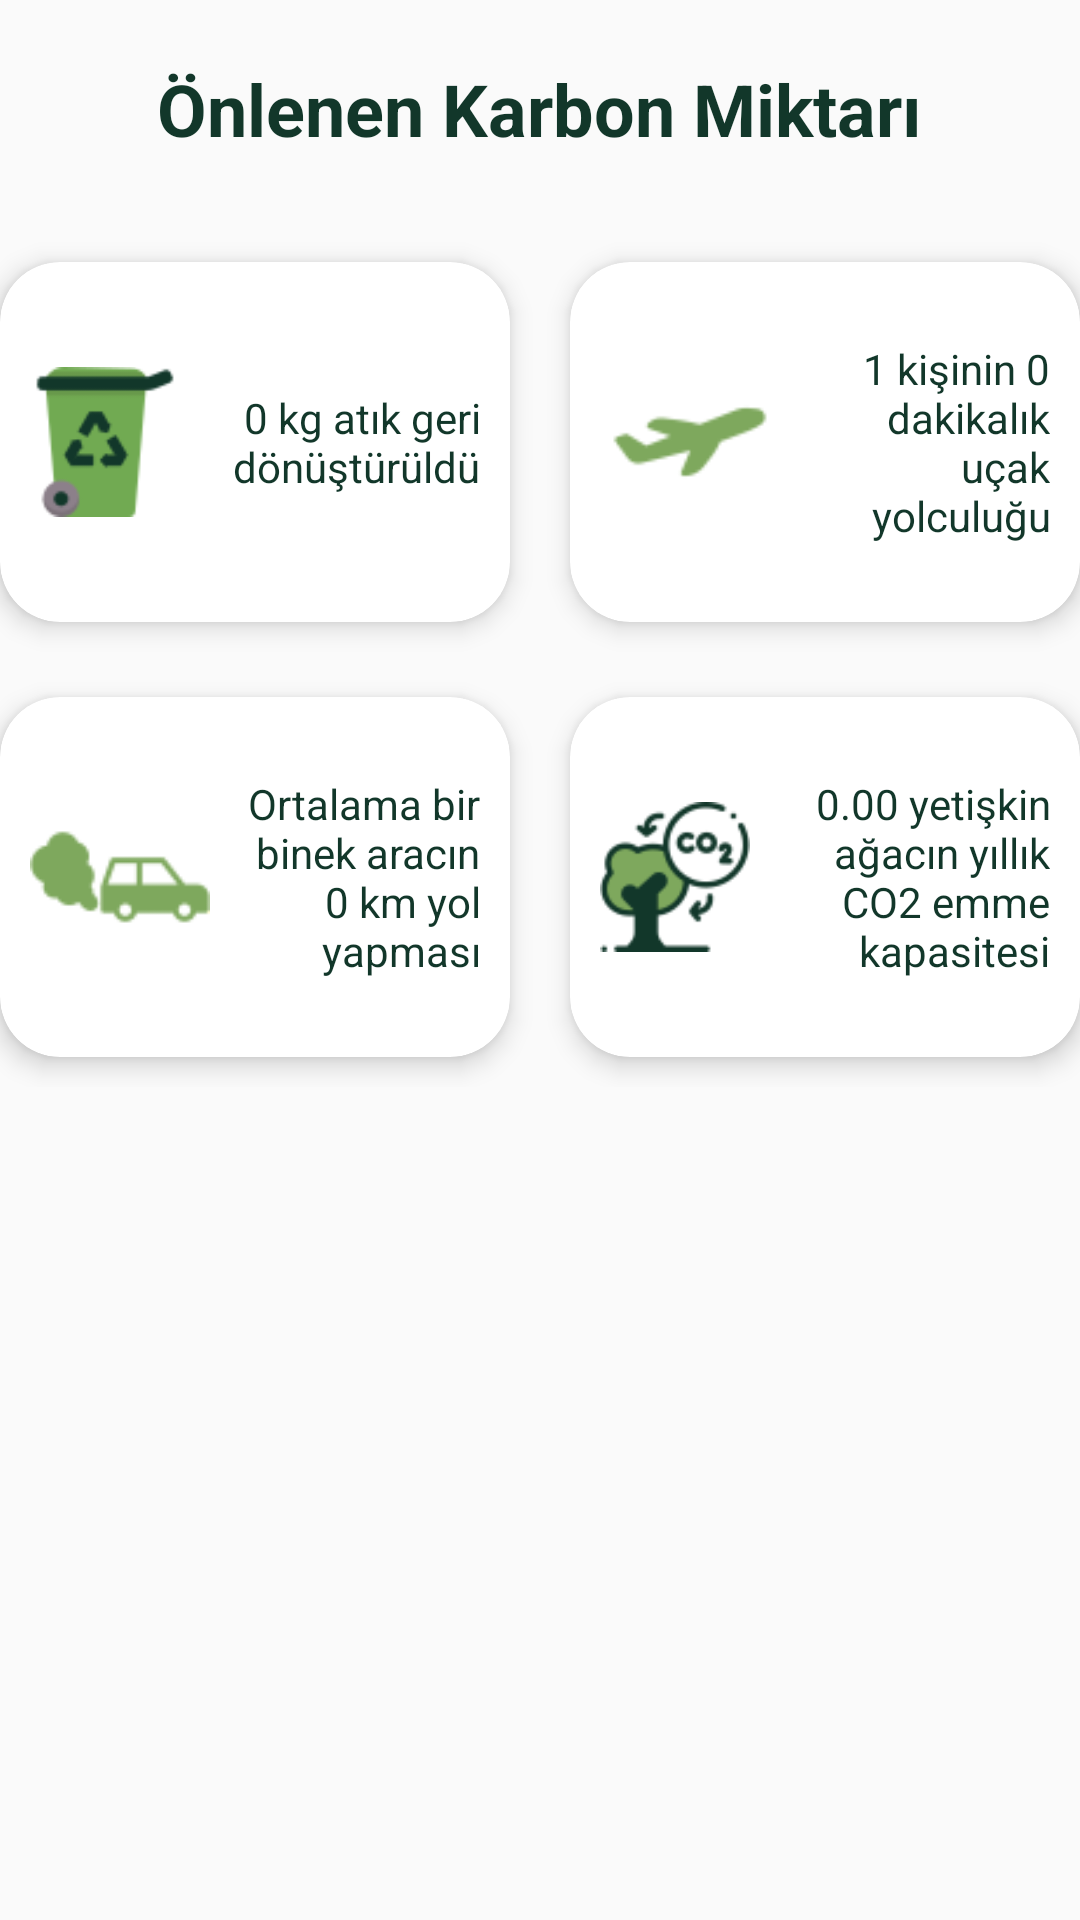

Icon click points for this 1080*1920 phone screenshot, format (x,y):
car: (120,877)
plane: (690,442)
recycle bin: (105,442)
tree: (675,877)
